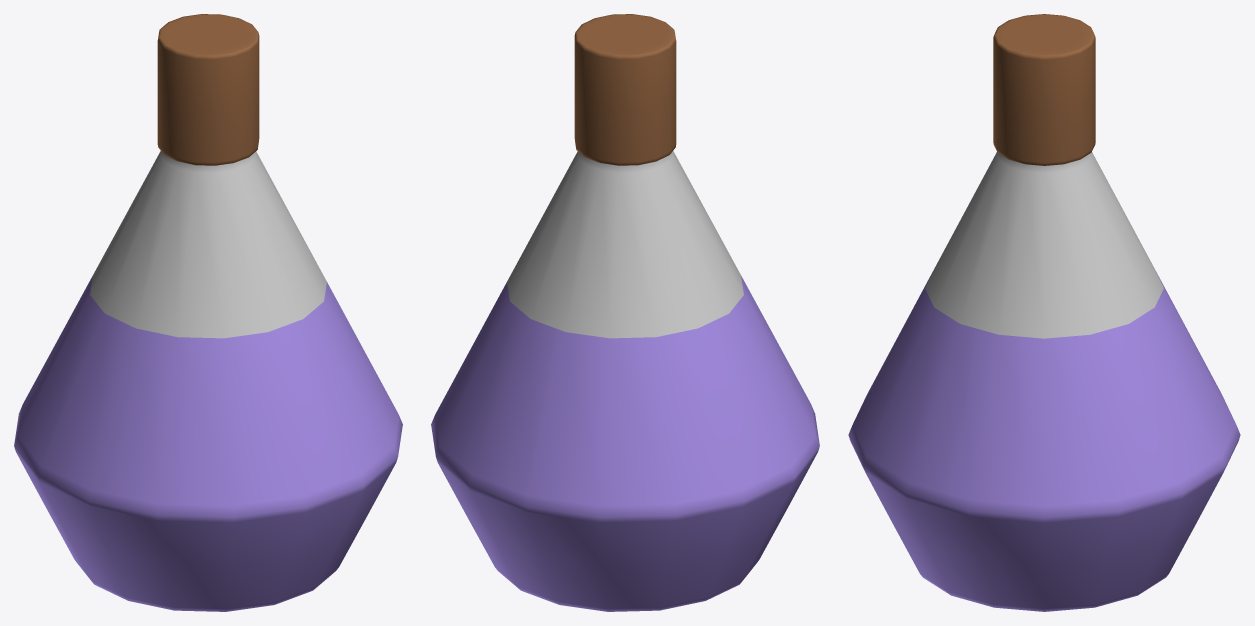
The model's file is Pocion_9.fbx.
The picture shows the model from 3 angles, left to right: view 1: azimuth 30°, elevation 25°; view 2: azimuth 150°, elevation 25°; view 3: azimuth 270°, elevation 25°; orthographic projection.
Parts seen in each view (by area): view 1: Cube.007; view 2: Cube.007; view 3: Cube.007.
Part boxes in pixels (x1,y1,x2,y2): Cube.007: (14, 14, 402, 611); Cube.007: (431, 14, 819, 611); Cube.007: (848, 14, 1240, 611).
Bounding box in the file's own units: 176 × 259 × 176.
